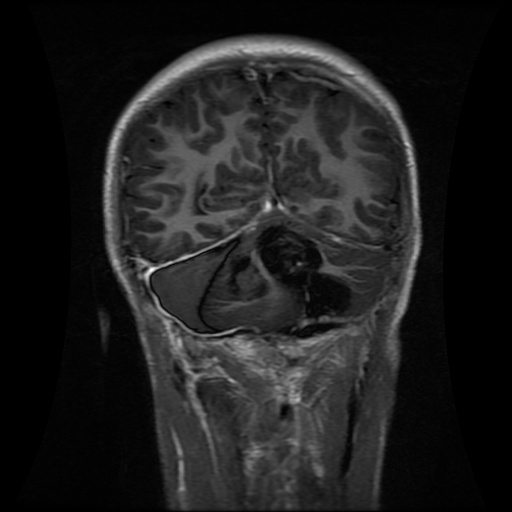glioma: (258, 224, 350, 320)
